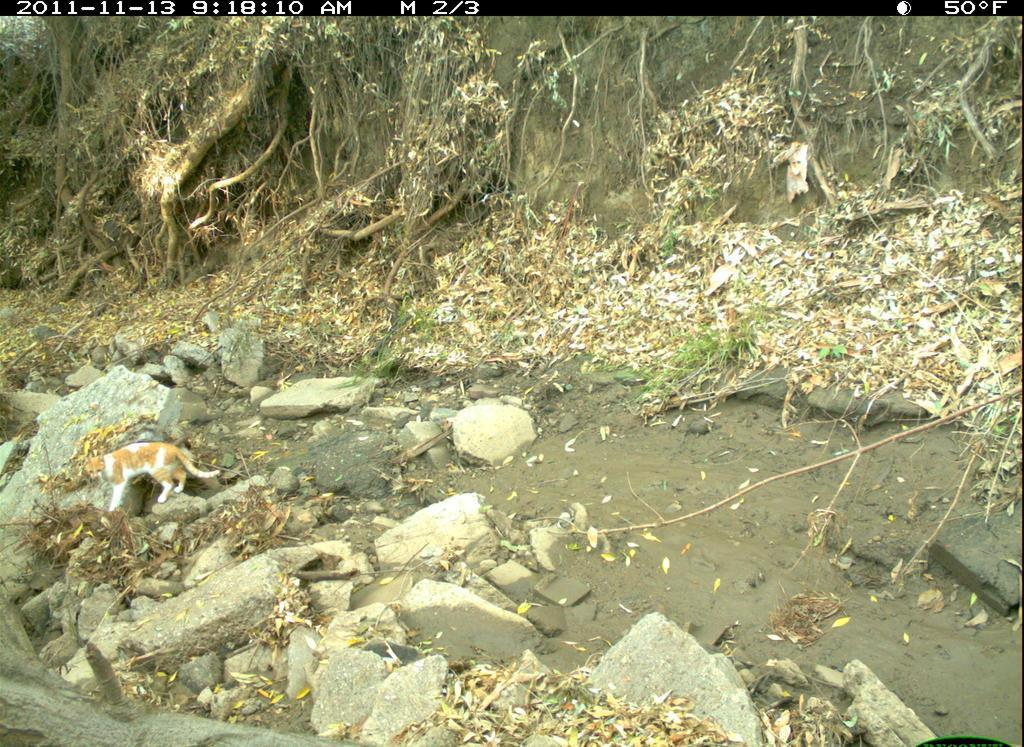cat: (71, 425, 277, 536)
